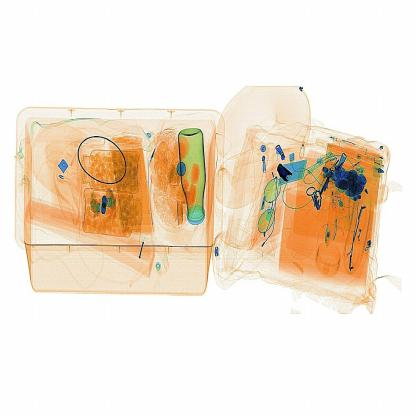pliers: (271, 156, 300, 194)
